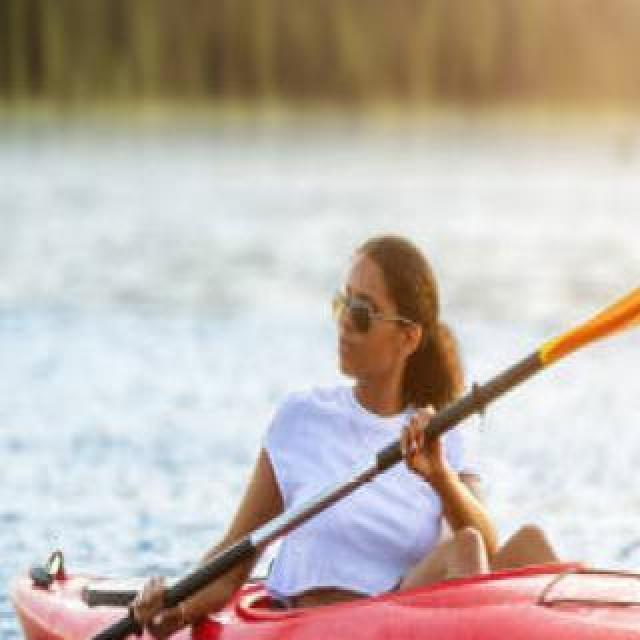kayak: (10, 565, 128, 640)
